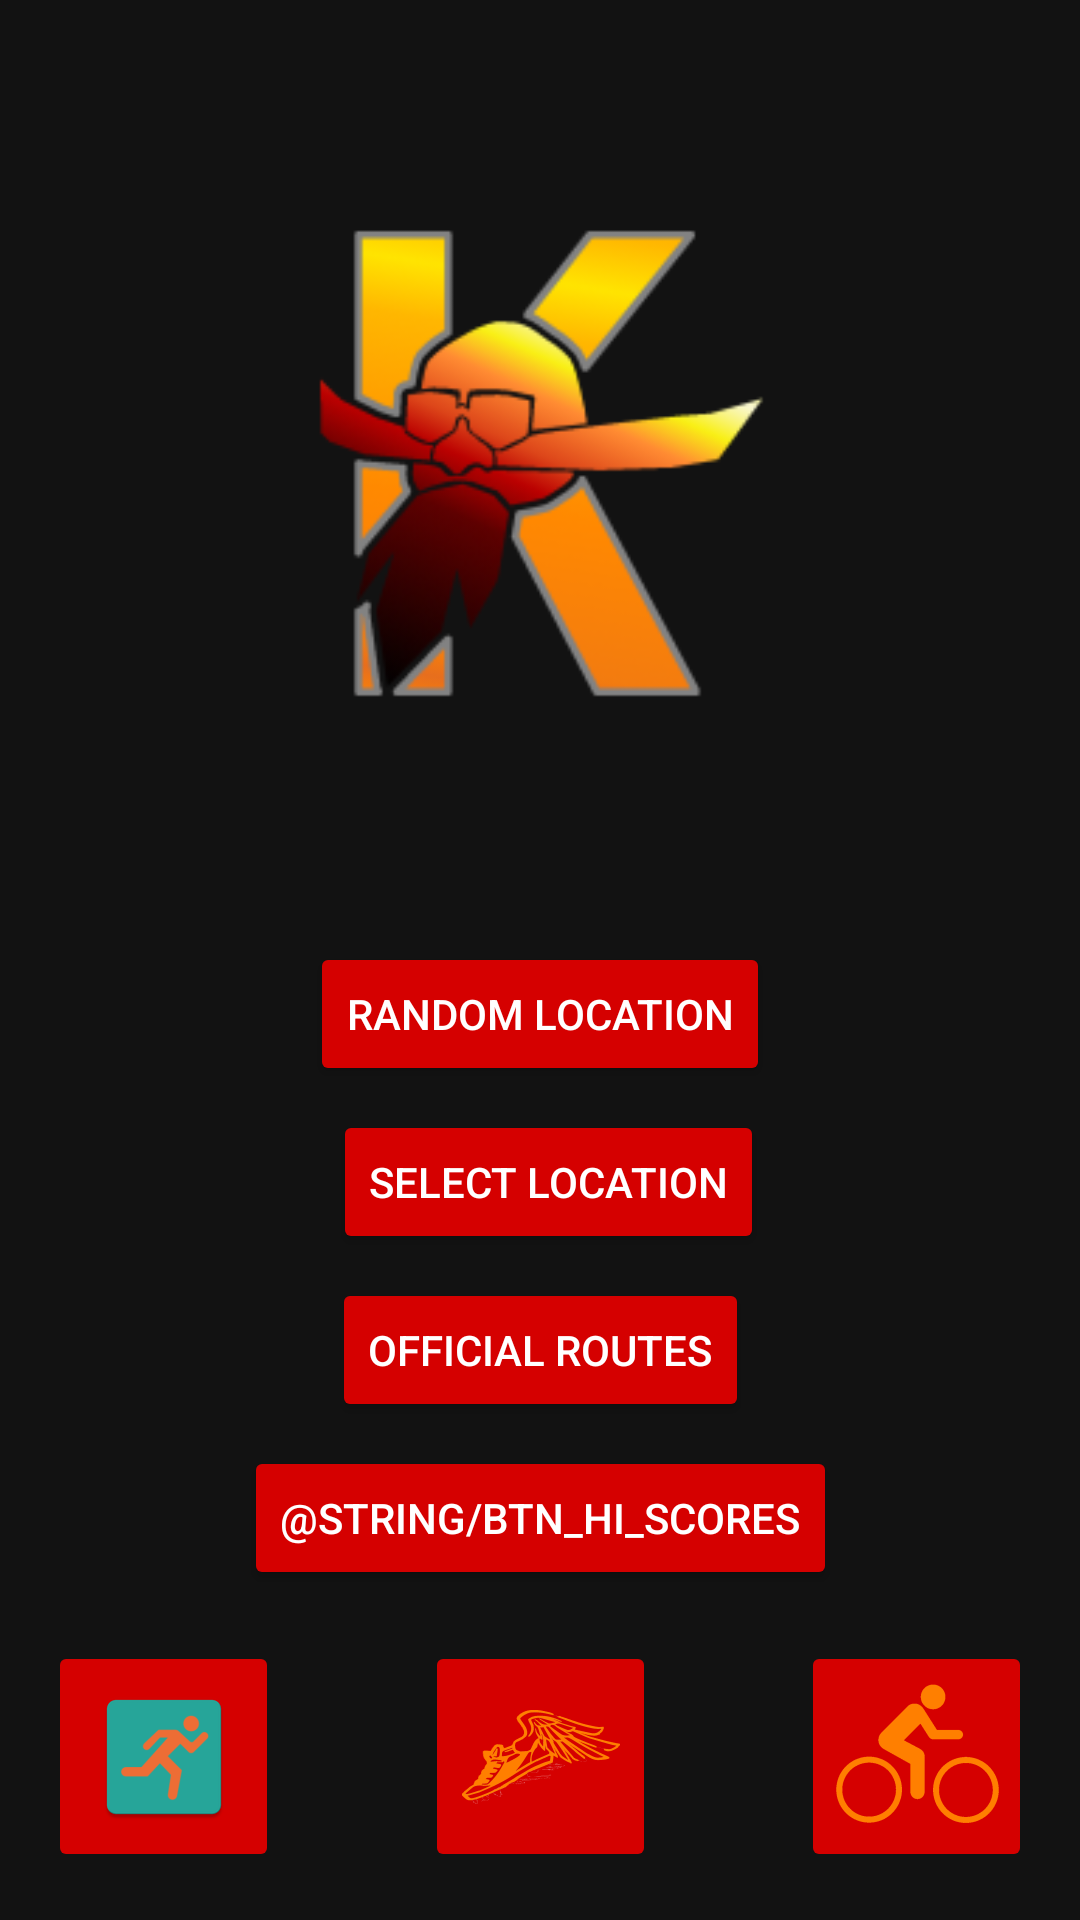

Named icons in this screenshot (1080×1920) and their bounding boxes, [x1=x1, y1=y1, x2=x2, y2=y2]:
biking: [x1=813, y1=1659, x2=1020, y2=1854]
speedrun: [x1=437, y1=1659, x2=644, y2=1854]
